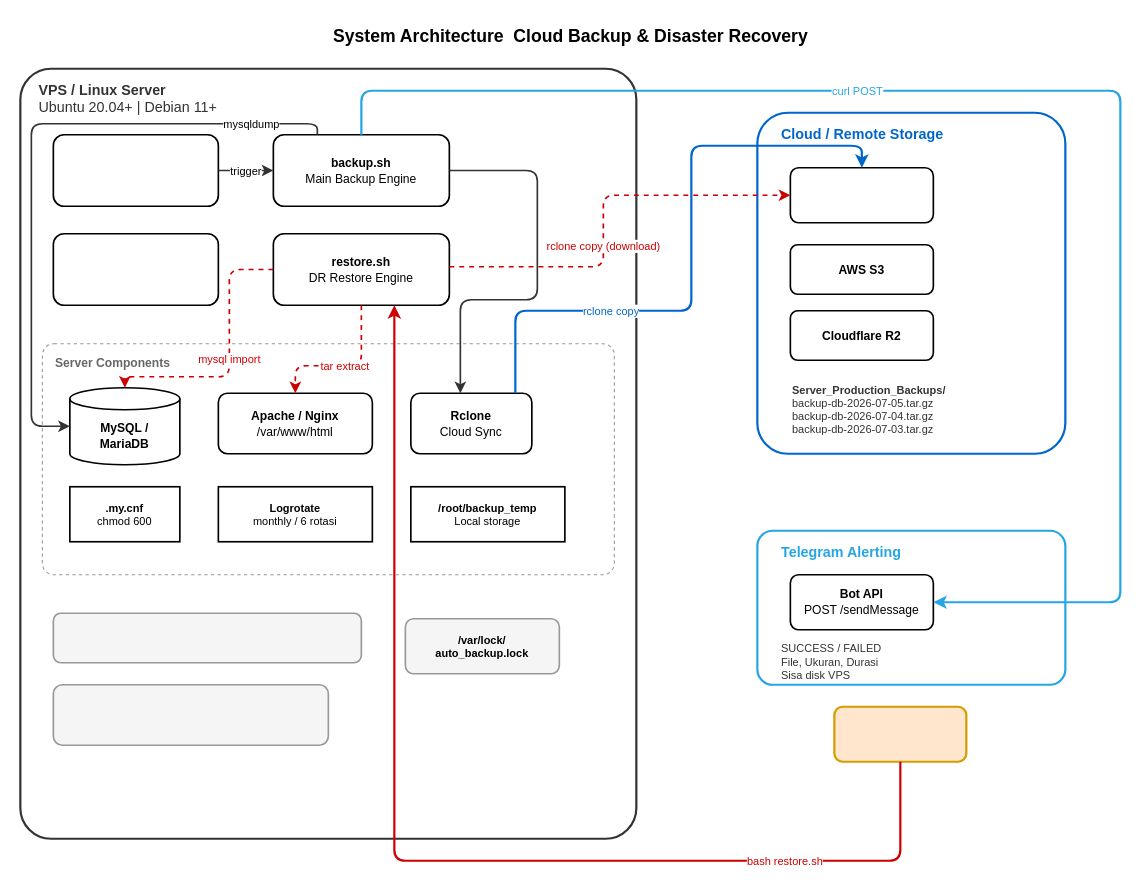
Image size: 1148x889. Some labels were removed from this diagram. The shapes that lost their labels are listed below. From the top down, each one's centre as x and y in pixels, then its label:
(135,170): Cronjob 02:00 AM daily + flock lock
(861,194): Google Drive 15 GB Free
(135,269): setup.sh Deployment Wizard
(207,637): /var/log/backup.log Riwayat eksekusi (stdout + stderr)
(190,714): Retention Policy find -mtime +7 -delete rclone delete --min-age 7d
(900,733): SysAdmin
